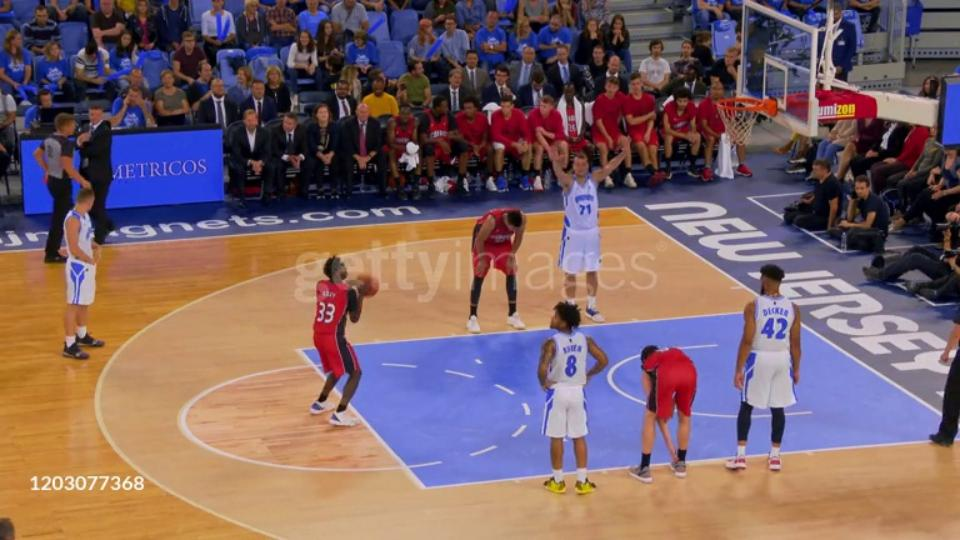hoop: (714, 92, 772, 117)
